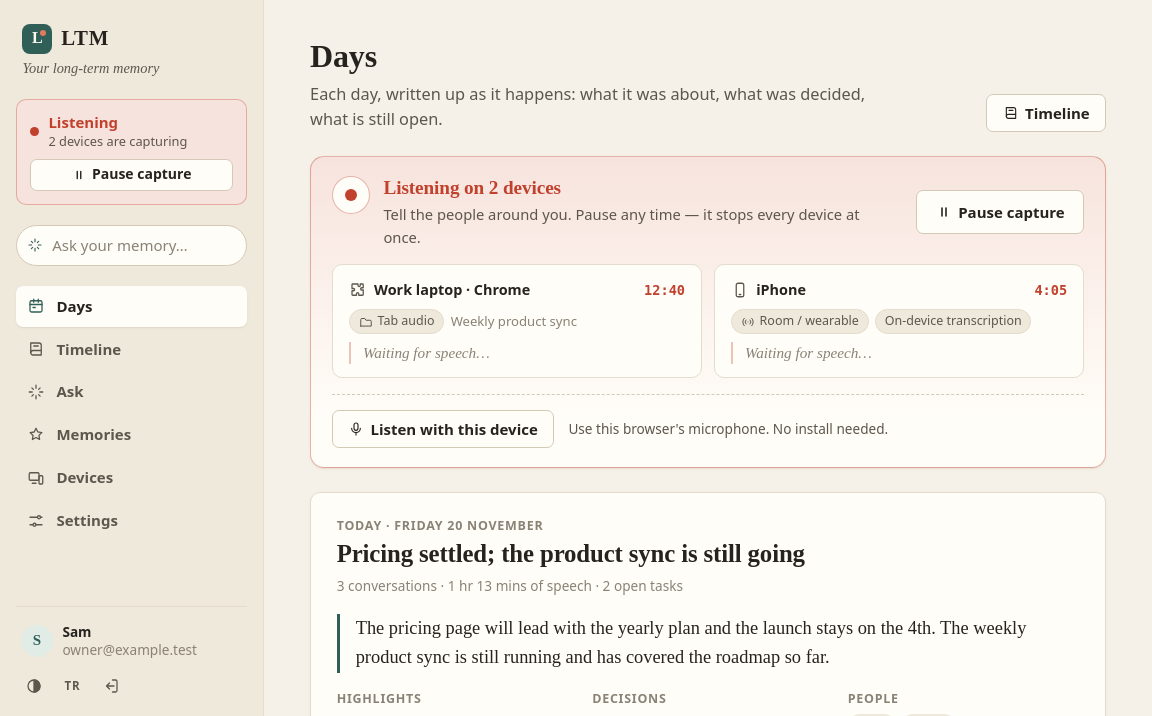
Test: live events › saves the UI language to the account when switched
Check: the heading "Days" is shown, box [310,38,377,74]
Click the button with aria-label "Switch language to Türkçe" at (72, 686), box [54,668,90,704]
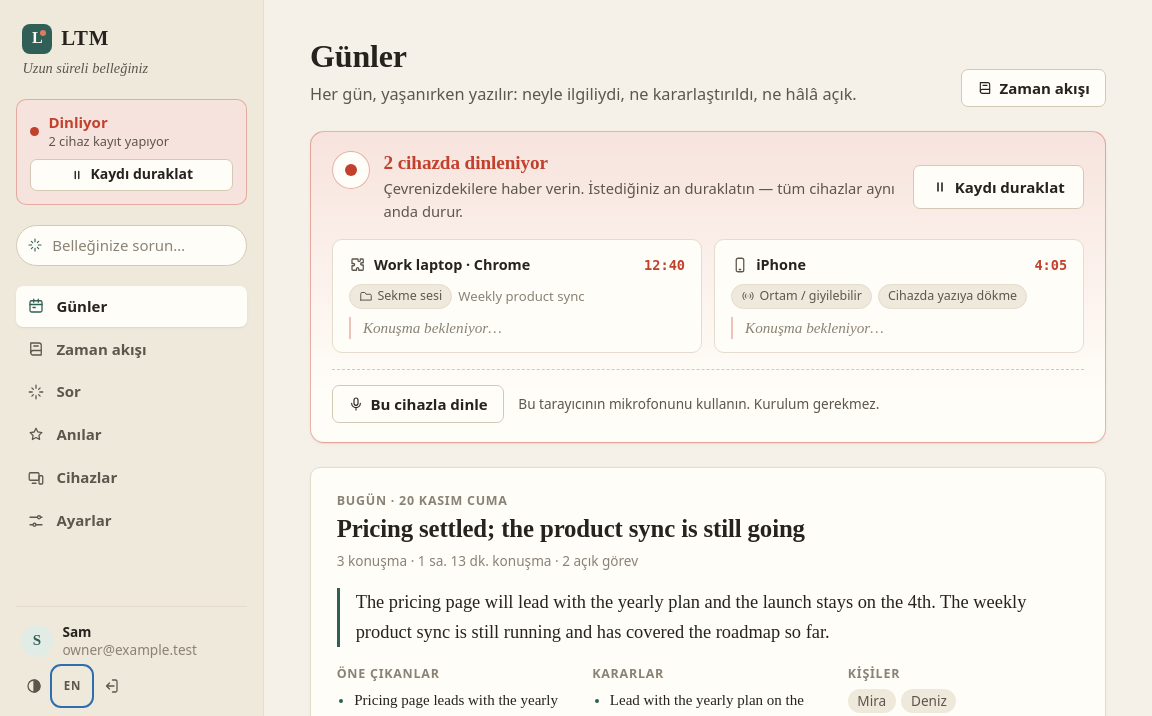
Check: the heading "Günler" is shown, box [310,38,407,74]
